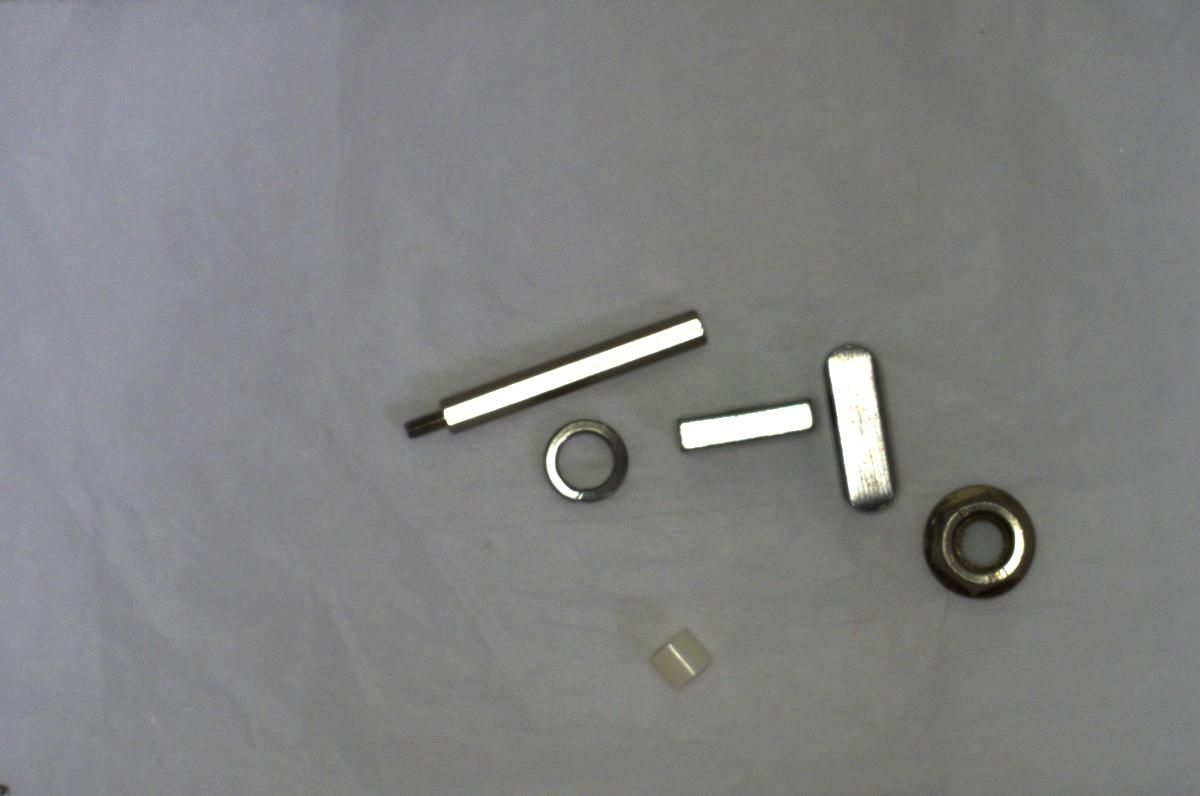Flange nut: (915, 472, 1048, 603)
Hexagonal steel column: (400, 302, 708, 436)
Keybar: (819, 342, 899, 520)
Plastic cushion pillar: (644, 621, 719, 689)
Rectangular nut: (667, 394, 817, 456)
Spring washer: (540, 415, 631, 508)
